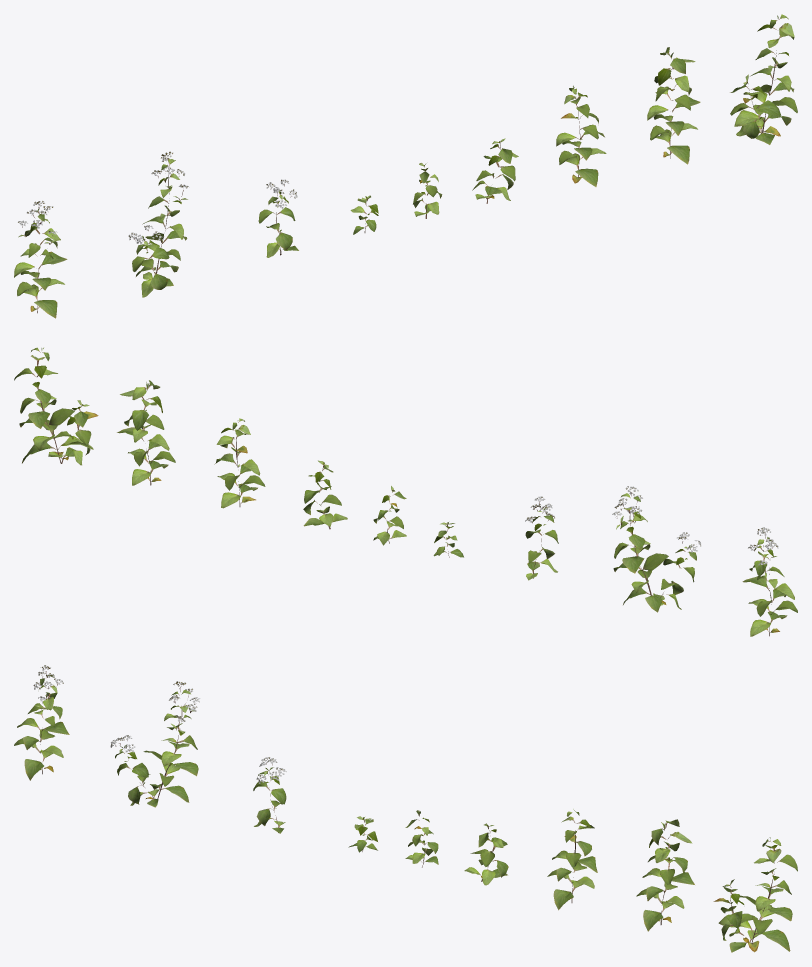
The model's file is shrub.glb.
The picture shows the model from 3 angles, top to bottom: view 1: azimuth 30°, elevation 25°; view 2: azimuth 150°, elevation 25°; view 3: azimuth 330°, elevation 25°; orthographic projection. The views are drawn at different scales.
Parts seen in each view (by area): view 1: shrub_01_a; view 2: shrub_01_a; view 3: shrub_01_a.
Part boxes in pixels (left/top/right/bottom): shrub_01_a: left=14, top=14, right=797, bottom=318; shrub_01_a: left=14, top=347, right=797, bottom=636; shrub_01_a: left=14, top=665, right=797, bottom=952.
Size of the model in its own units: 2.59 by 0.3952 by 0.218.
1 material, 1 textured.
